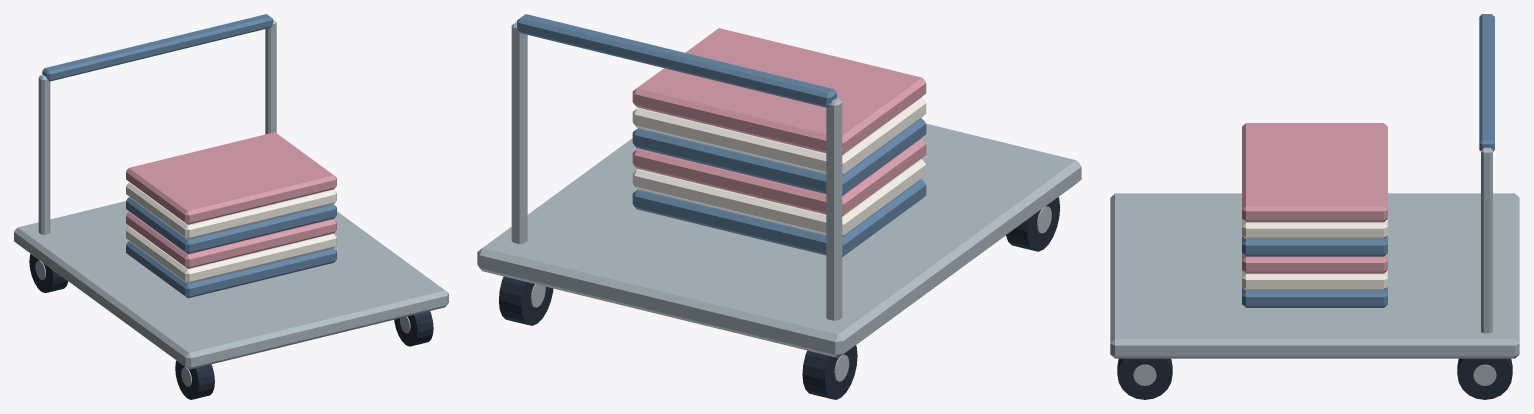
The model's file is campus_07.glb.
3 views of the same model, side by side, from view 1: azimuth 30°, elevation 25°; view 2: azimuth 150°, elevation 25°; view 3: azimuth 270°, elevation 25° (orthographic). The views are drawn at different scales.
Parts seen in each view (by area): view 1: CartDeck, StackedBook (×6), CartGrip, PushUpright (×2), Wheel (×3); view 2: CartDeck, StackedBook (×6), PushUpright (×2), CartGrip, Wheel (×3); view 3: CartDeck, StackedBook (×6), Wheel (×2), PushUpright, CartGrip, WheelHub (×2).
Boxes of the visible parts, x1,y1,x2,y2 form: CartDeck: [14, 201, 448, 369]; StackedBook (×6): [126, 132, 336, 298]; CartGrip: [42, 14, 272, 81]; PushUpright (×2): [38, 19, 276, 234]; Wheel (×3): [29, 254, 433, 399]; CartDeck: [477, 123, 1081, 357]; StackedBook (×6): [632, 28, 926, 256]; PushUpright (×2): [511, 21, 842, 320]; CartGrip: [517, 14, 836, 107]; Wheel (×3): [499, 197, 1060, 399]; CartDeck: [1110, 193, 1519, 358]; StackedBook (×6): [1242, 123, 1387, 307]; Wheel (×2): [1117, 358, 1512, 399]; PushUpright: [1481, 147, 1492, 333]; CartGrip: [1479, 14, 1494, 151]; WheelHub (×2): [1133, 364, 1496, 385].
Size of the model in its own units: 0.9 by 0.7175 by 1.04.
